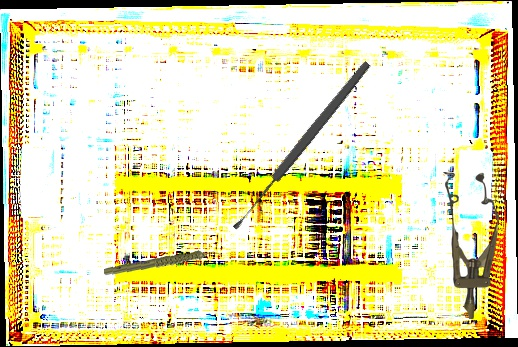Handpiece: (103, 242, 223, 285)
Speculum: (443, 172, 499, 319)
Surgical Spoon: (229, 59, 373, 232)
